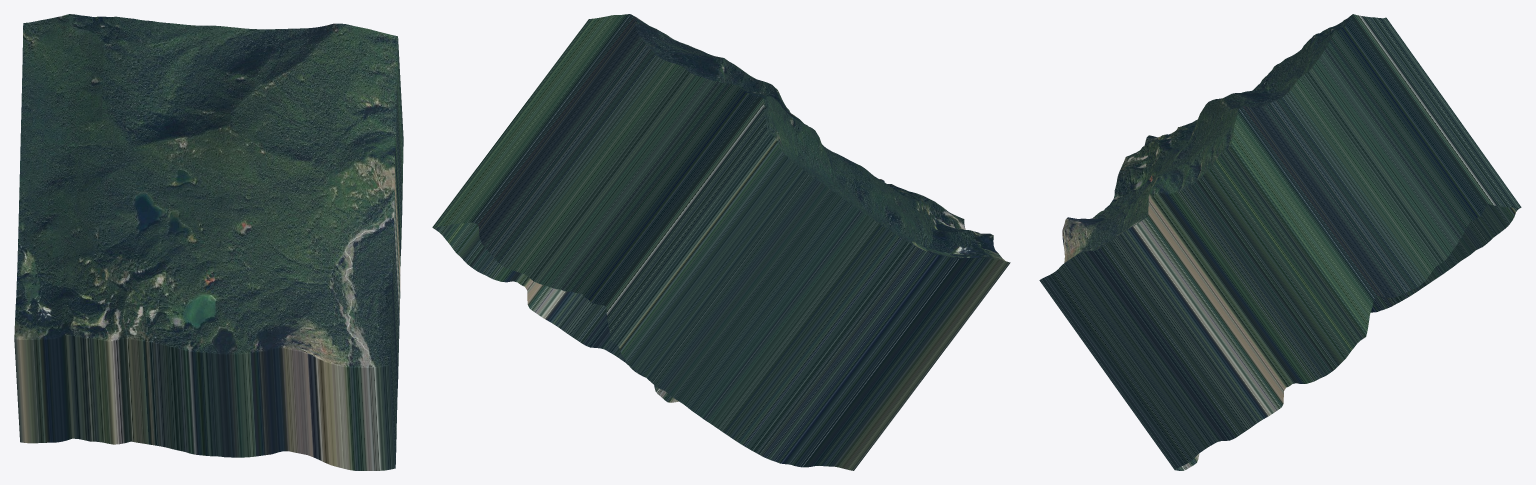
The picture shows the model from 3 angles, left to right: view 1: azimuth 30°, elevation 25°; view 2: azimuth 150°, elevation 25°; view 3: azimuth 270°, elevation 25°; orthographic projection. The views are drawn at different scales.
Size of the model in its own units: 6289 by 5243 by 6205.
1 material, 1 textured.
